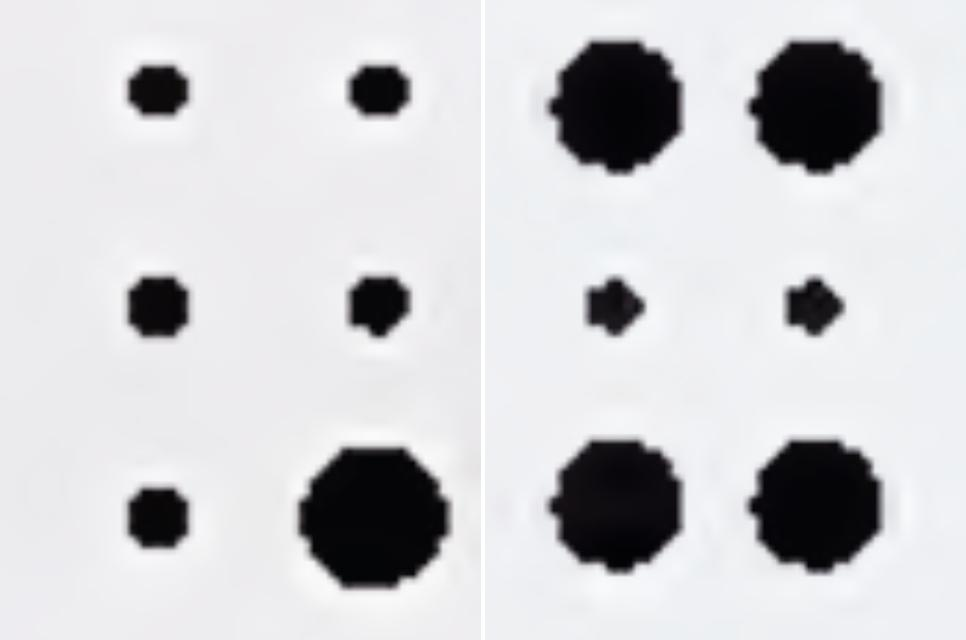capital_sign: (129, 67, 451, 588)
letter_X: (550, 40, 885, 574)
